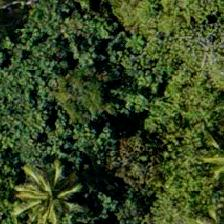Kelapa_Sawit: (1, 148, 92, 223)
